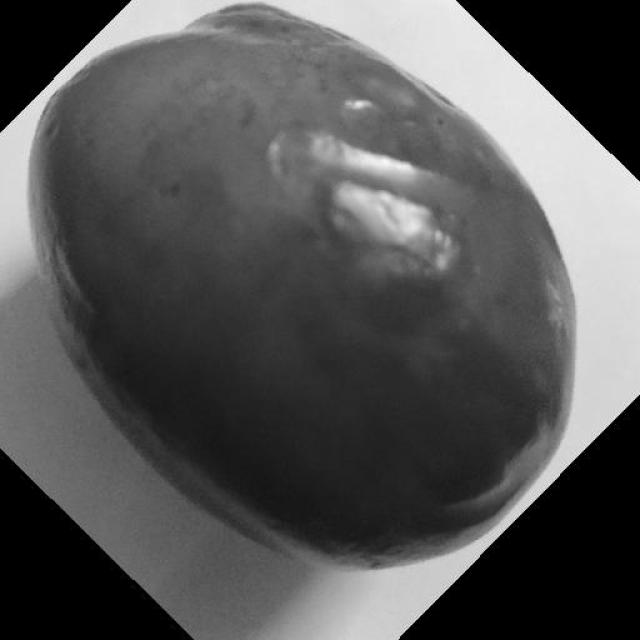Stale_tomato: (16, 14, 596, 532)
